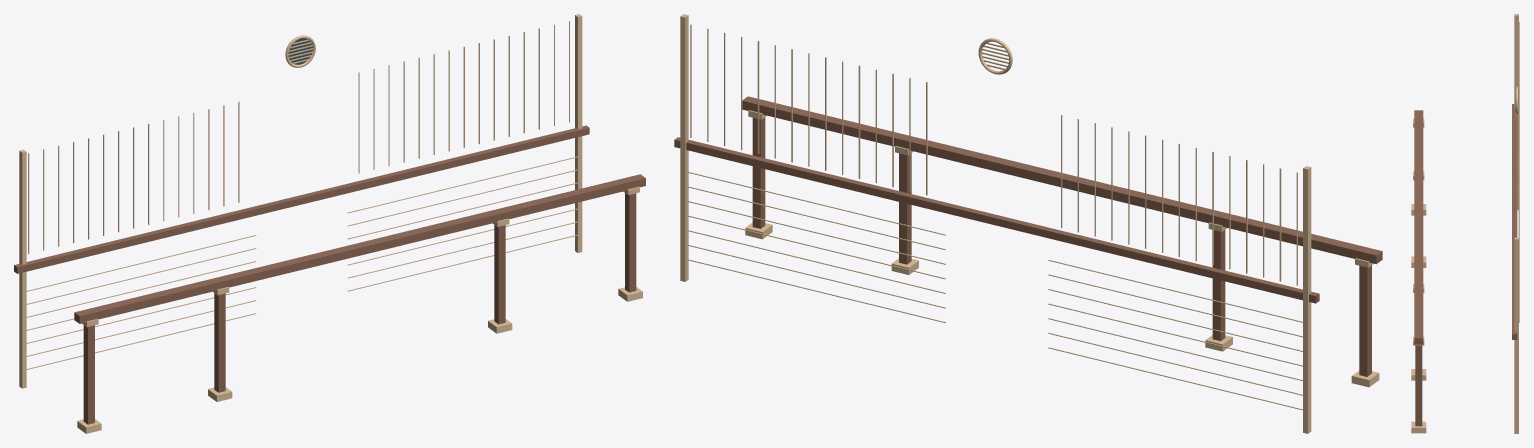
File: house-exterior.glb
3 views of the same model, side by side, from view 1: azimuth 30°, elevation 25°; view 2: azimuth 150°, elevation 25°; view 3: azimuth 270°, elevation 25° (orthographic). The views are drawn at different scales.
Visible parts, largest first — view 1: Facade_926c58, Facade_e3c4a0; view 2: Facade_926c58, Facade_e3c4a0; view 3: Facade_926c58, Facade_e3c4a0.
Part boxes in pixels (x1,y1,x2,y2): Facade_926c58: [14, 125, 645, 424]; Facade_e3c4a0: [19, 14, 642, 433]; Facade_926c58: [674, 96, 1382, 376]; Facade_e3c4a0: [680, 14, 1379, 433]; Facade_926c58: [1414, 104, 1517, 426]; Facade_e3c4a0: [1411, 14, 1519, 433].
Size of the model in its own units: 18.4 by 8.7 by 3.65.
